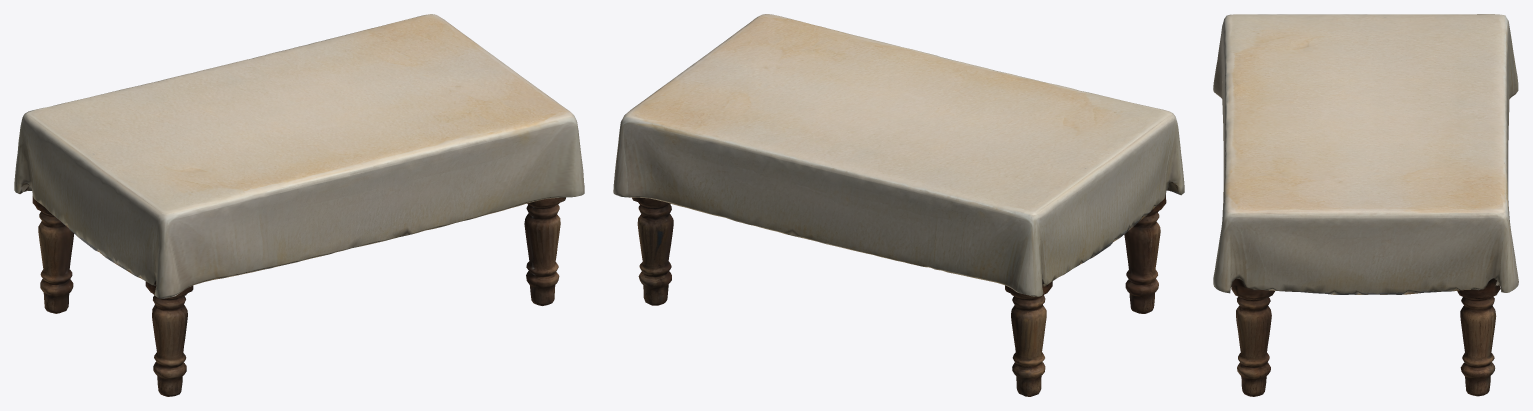
File: Furn_DiningTable.fbx
3 renders of one model, left to right at view 1: azimuth 30°, elevation 25°; view 2: azimuth 150°, elevation 25°; view 3: azimuth 270°, elevation 25°, orthographic.
Visible parts, largest first — view 1: texture_mapping; view 2: texture_mapping; view 3: texture_mapping.
Boxes of the visible parts, x1,y1,x2,y2 form: texture_mapping: (14, 14, 584, 396); texture_mapping: (613, 14, 1184, 396); texture_mapping: (1213, 14, 1518, 396).
Bounding box in the file's own units: 1 × 0.6277 × 0.4374.
1 material, 1 textured.
